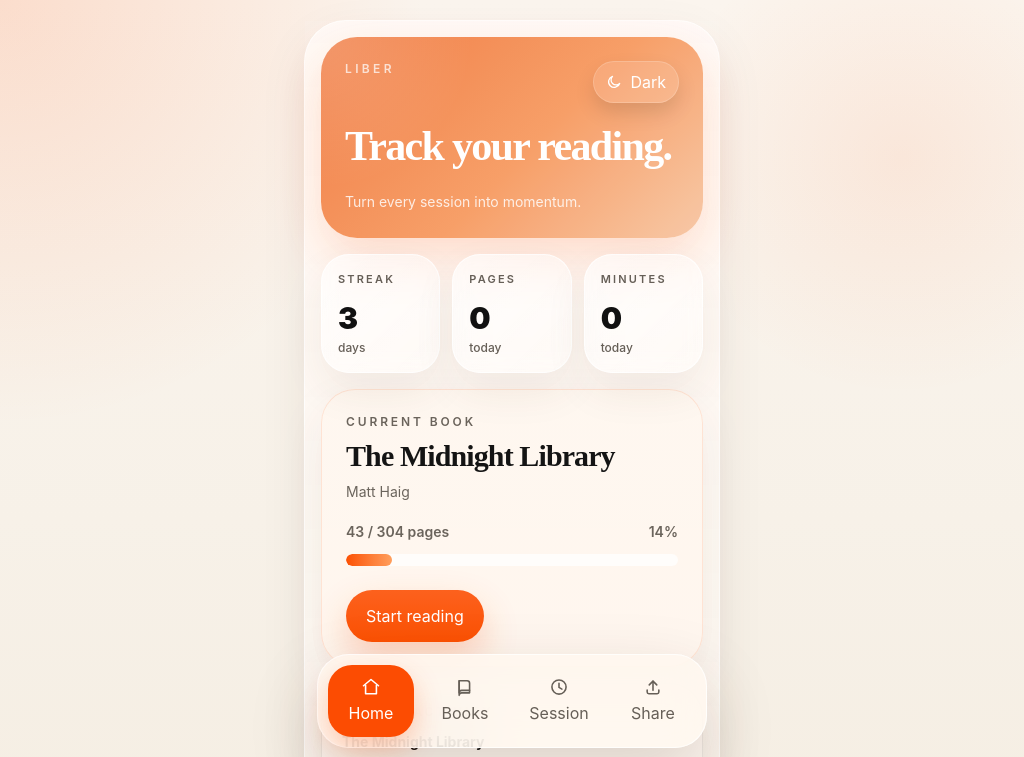
it: LiberApp core flow › toggles light and dark mode from the home hero and persists the choice
Click the button "Dark" at (636, 82), box [593,61,679,103]
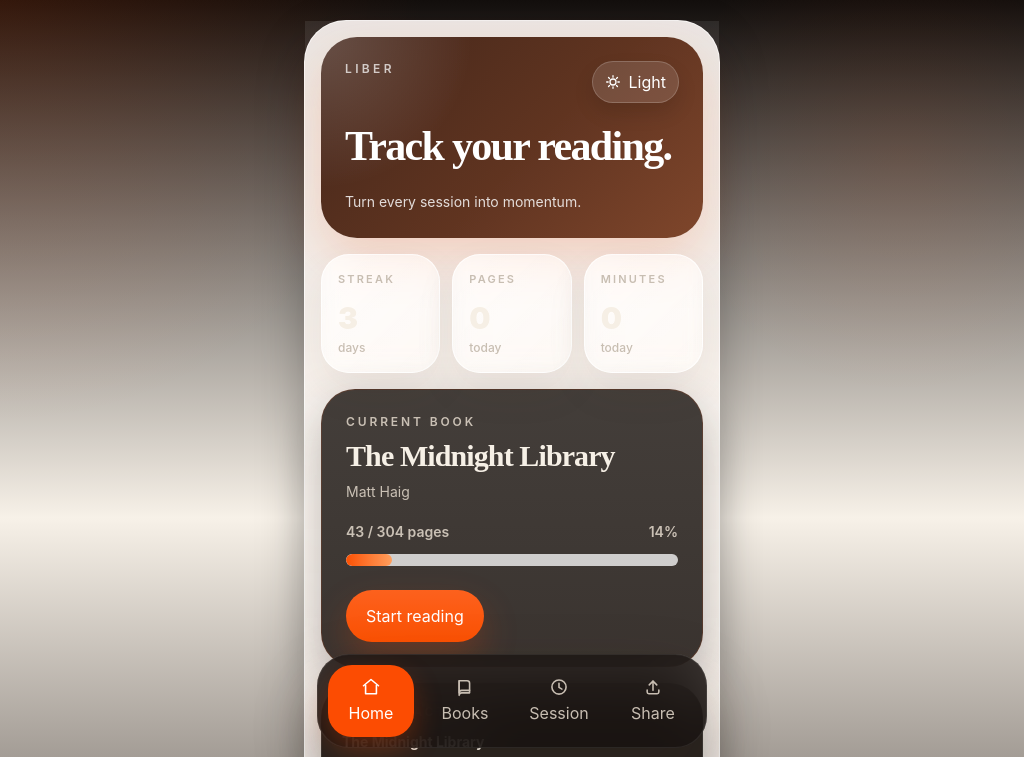
Result: the button "Light" is shown at [592,61,679,103]
